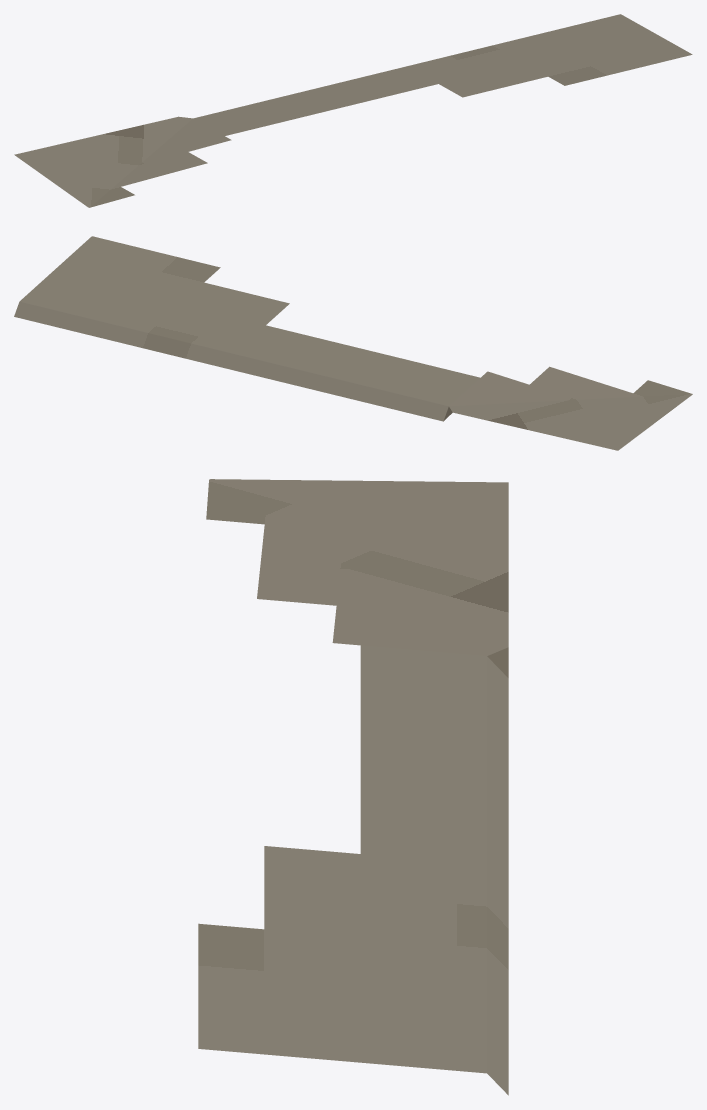
3 views of the same model, one above another, from view 1: azimuth 30°, elevation 25°; view 2: azimuth 150°, elevation 25°; view 3: azimuth 270°, elevation 25° (orthographic). The views are drawn at different scales.
Size of the model in its own units: 1 by 0.0373 by 0.2236.
1 material, 1 textured.
